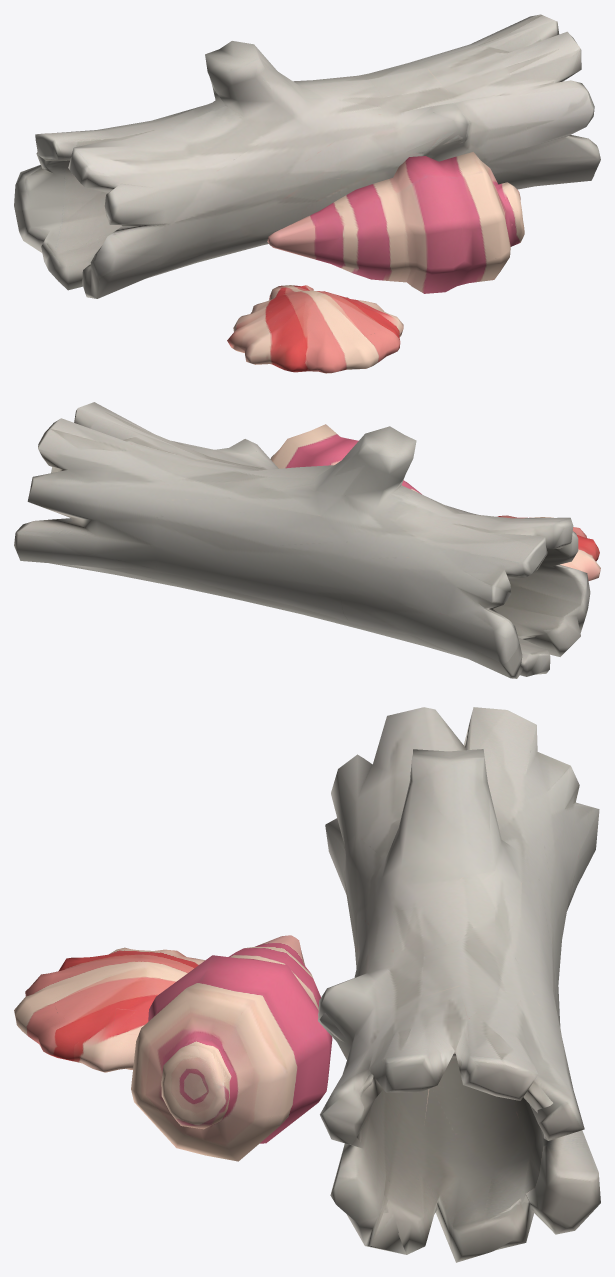
Rendered from driftwood.glb.
3 views of the same model, one above another, from view 1: azimuth 30°, elevation 25°; view 2: azimuth 150°, elevation 25°; view 3: azimuth 270°, elevation 25° (orthographic). The views are drawn at different scales.
Bounding box in the file's own units: 1 × 0.3998 × 0.7043.
1 material, 1 textured.
